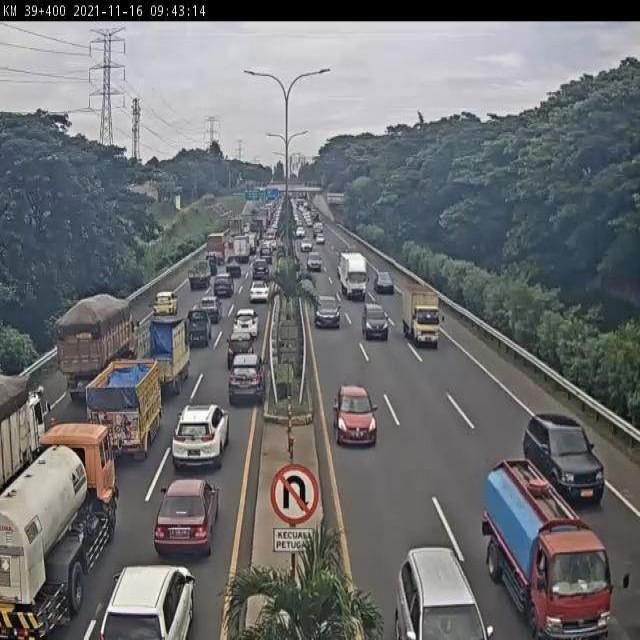car: (524, 409, 605, 502), (102, 562, 197, 640), (152, 476, 219, 560), (167, 404, 229, 471), (333, 381, 377, 448), (226, 352, 266, 407), (360, 301, 390, 344), (182, 308, 214, 348), (225, 328, 255, 368), (314, 292, 343, 332), (232, 307, 260, 337), (186, 260, 212, 291), (151, 288, 179, 316), (198, 295, 223, 324), (211, 270, 235, 298), (249, 257, 273, 283), (248, 279, 271, 304), (224, 254, 244, 278), (375, 268, 394, 293)
small truck: (400, 284, 443, 348)
truck-l-: (0, 421, 120, 640), (57, 293, 138, 404), (0, 369, 51, 491)
truck-m-: (480, 459, 606, 636), (88, 356, 164, 456), (126, 316, 191, 400), (337, 252, 368, 301)
